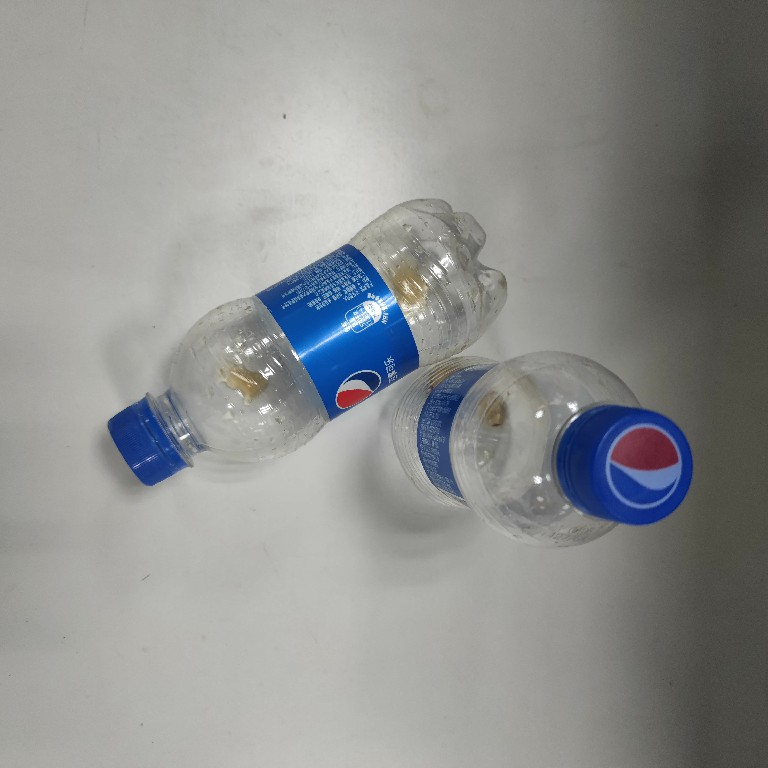bottle: (104, 194, 512, 491), (384, 344, 698, 553)
